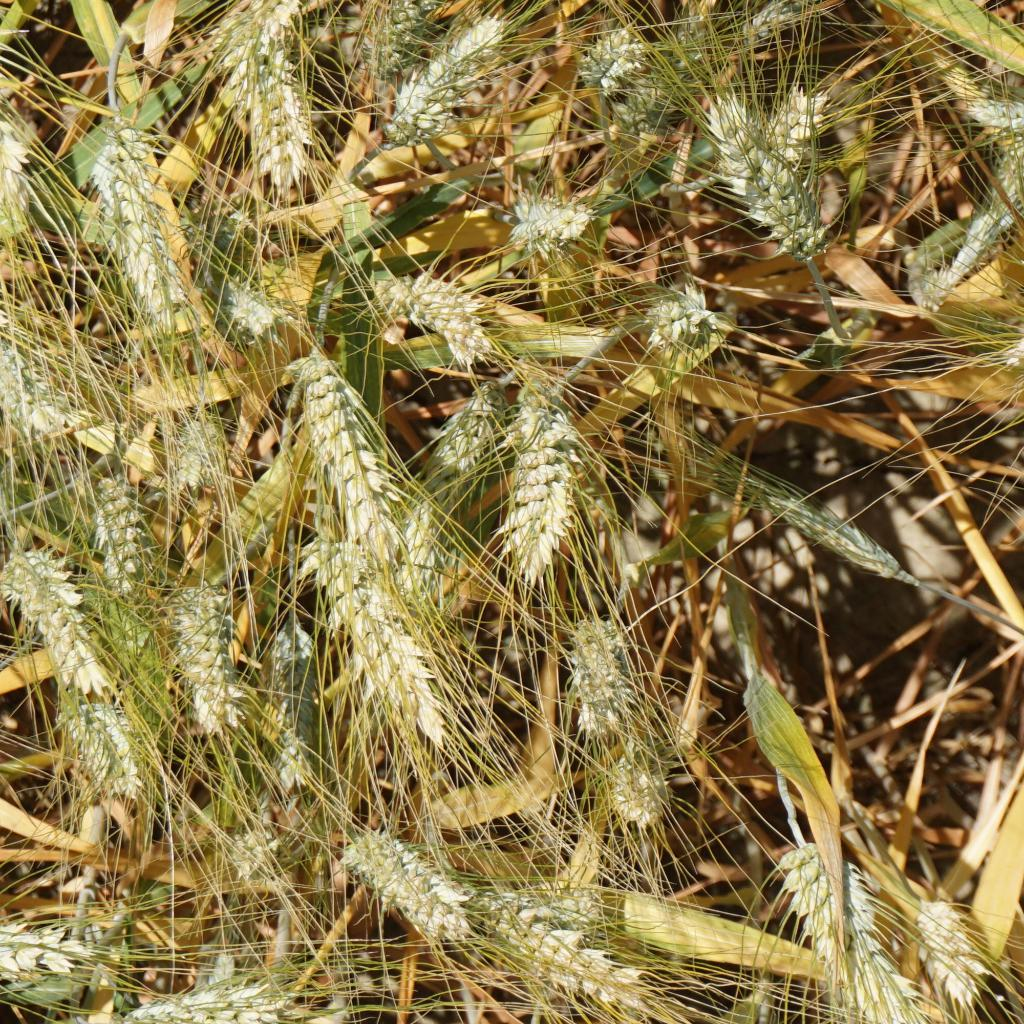0-0: (464, 877, 665, 1008), (312, 536, 433, 739), (775, 830, 903, 1002), (728, 456, 911, 574), (704, 89, 820, 246), (297, 331, 385, 524), (96, 137, 184, 325), (7, 540, 113, 692), (338, 817, 473, 935), (502, 392, 574, 572), (713, 79, 836, 170), (559, 607, 638, 738), (378, 271, 492, 361), (910, 881, 995, 999), (177, 561, 239, 719), (241, 51, 316, 173), (261, 611, 308, 792), (423, 1, 524, 85), (0, 323, 75, 436), (574, 16, 669, 102), (506, 861, 618, 932), (105, 978, 276, 1024), (91, 472, 156, 591), (69, 699, 142, 804), (379, 60, 469, 143), (392, 486, 452, 603), (504, 187, 608, 251), (0, 0, 31, 213), (597, 749, 674, 827), (351, 0, 442, 62), (635, 275, 719, 342), (925, 216, 1008, 283), (159, 396, 221, 484), (223, 809, 285, 896), (440, 375, 490, 477), (210, 274, 284, 338), (961, 80, 1024, 150), (0, 908, 67, 972), (738, 0, 832, 42), (207, 192, 264, 261), (971, 143, 1024, 213), (230, 0, 318, 38), (610, 76, 669, 132), (998, 295, 1024, 391)
